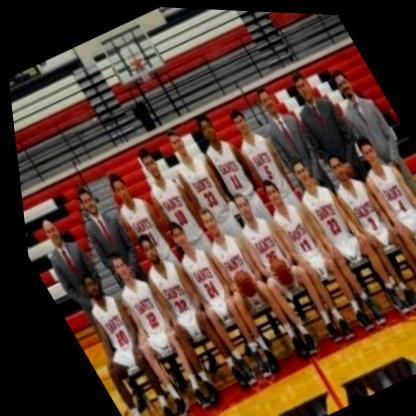basketball: (252, 247, 298, 294), (220, 262, 257, 301)
